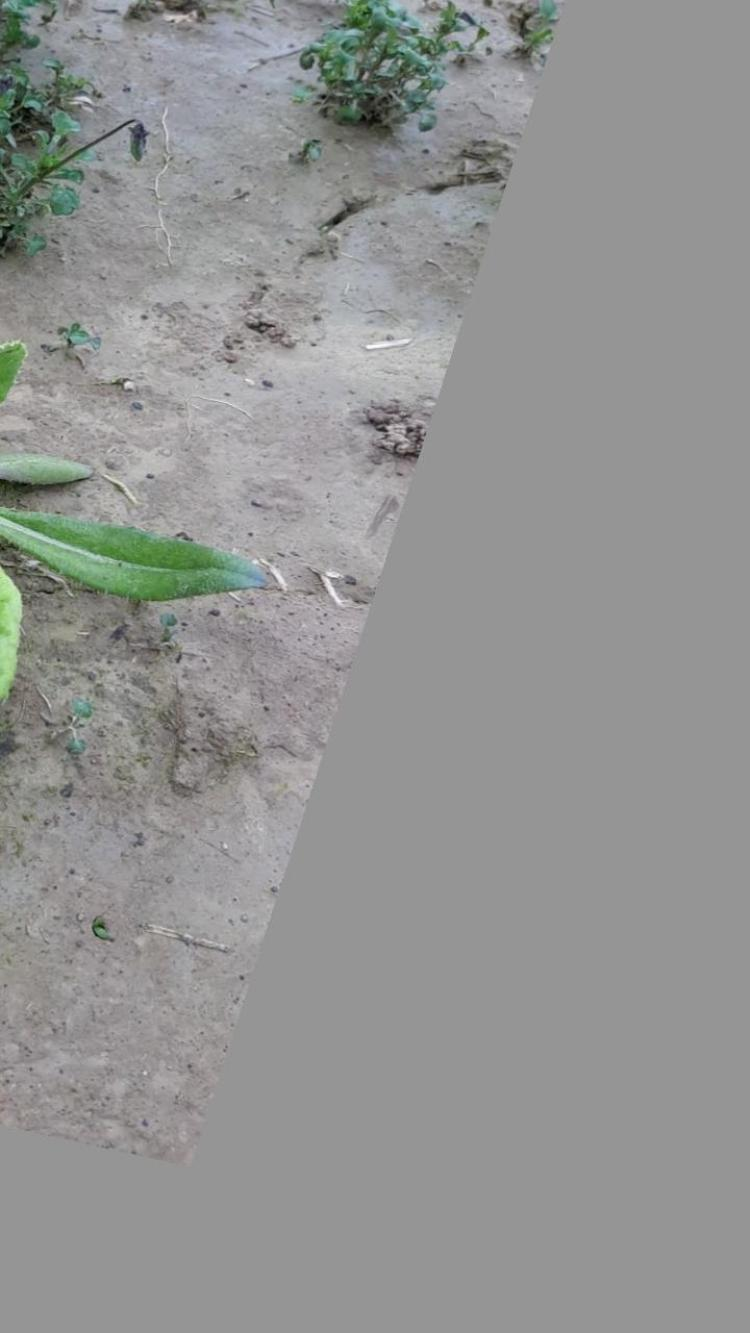osot: (0, 337, 279, 714)
